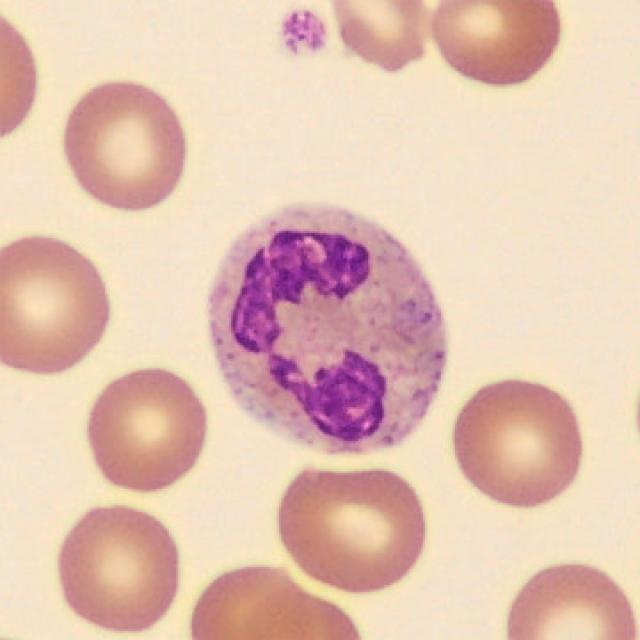Neutrofilo segmentado: (210, 204, 448, 457)
